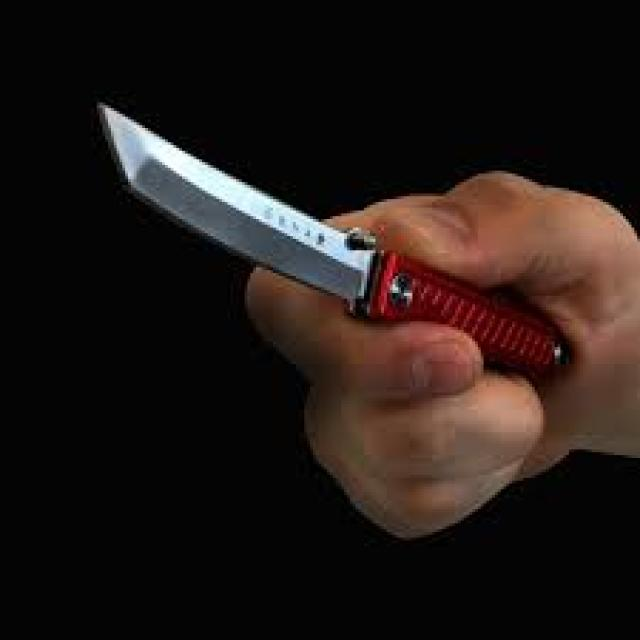knives: (88, 94, 578, 390)
